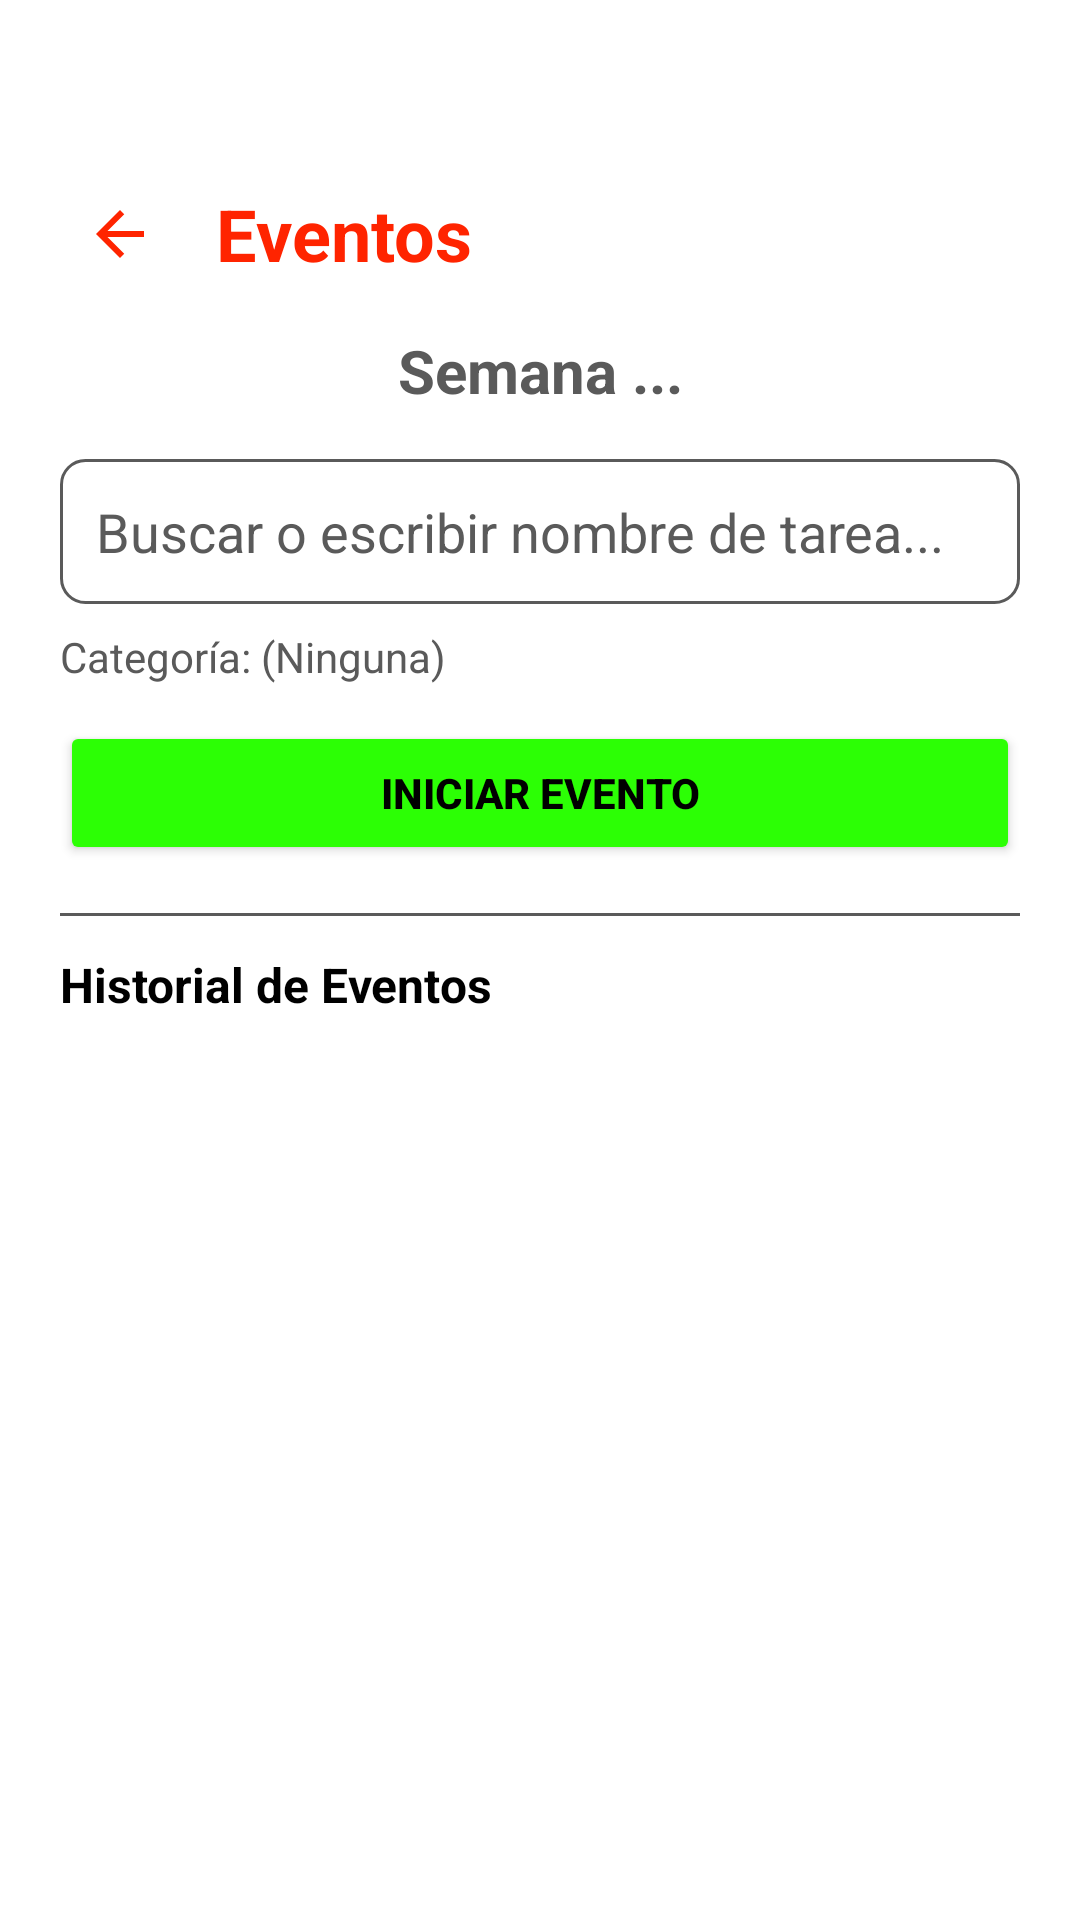

Point at icon controls on the screen. Image size 1080*1920, points as (x=x, y=y).
Volver: (x=120, y=234)
